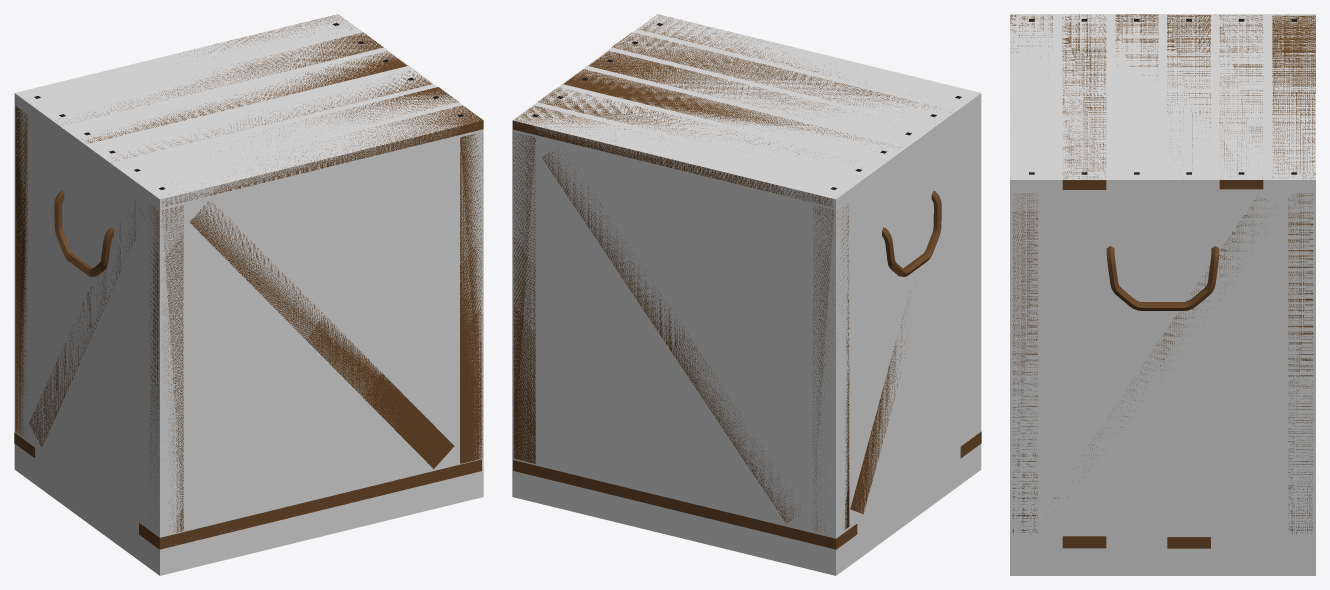
Rendered from Crate.fbx.
3 views of the same model, side by side, from view 1: azimuth 30°, elevation 25°; view 2: azimuth 150°, elevation 25°; view 3: azimuth 270°, elevation 25° (orthographic). The views are drawn at different scales.
Visible parts, largest first — view 1: COL_Crate, Crate_Body; view 2: COL_Crate, Crate_Body; view 3: COL_Crate, Crate_Body.
Boxes of the visible parts, left/top/right/bottom form: COL_Crate: left=14, top=14, right=483, bottom=575; Crate_Body: left=14, top=14, right=483, bottom=549; COL_Crate: left=512, top=14, right=981, bottom=575; Crate_Body: left=513, top=14, right=981, bottom=549; COL_Crate: left=1010, top=14, right=1315, bottom=575; Crate_Body: left=1010, top=14, right=1315, bottom=548.
Bounding box in the file's own units: 0.9569 × 1 × 0.7.
